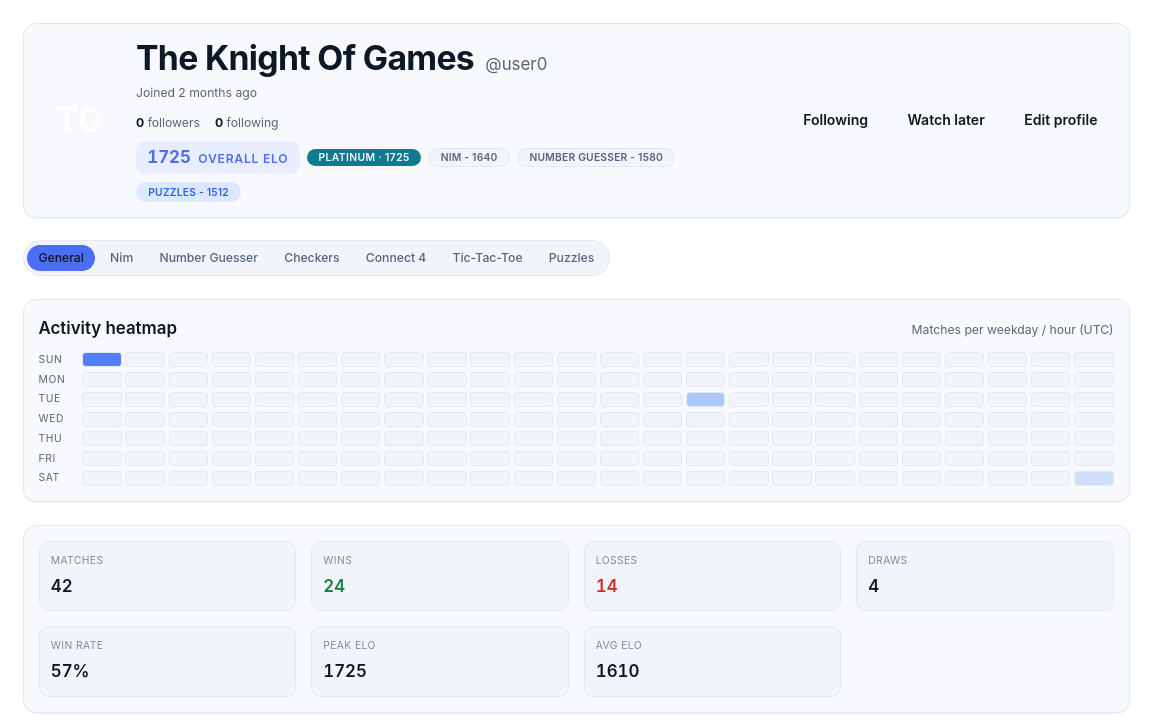
Test: Profile page — tabs › shows an owner-only Following tab with the follow feed
The image size is (1152, 720).
expect the element with test id "profile-header" is shown: met, box x1=22 y1=22 x2=1130 y2=218
Click the tab "Following" at (836, 120), box x1=787 y1=101 x2=884 y2=139
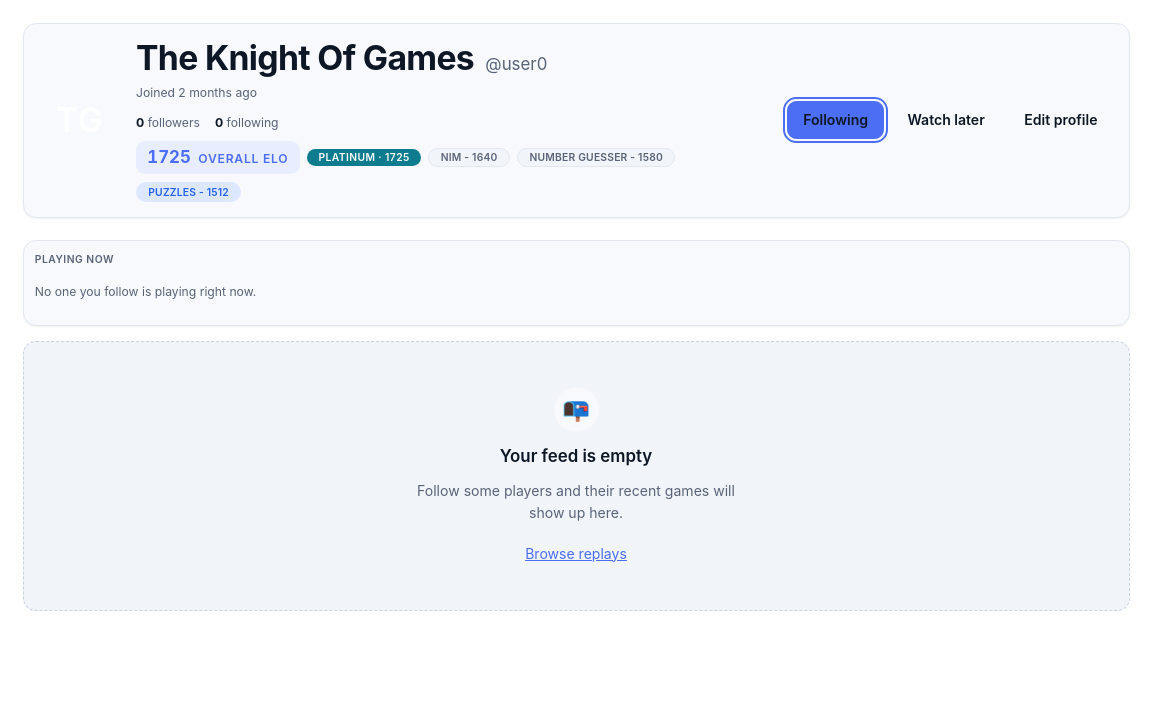
expect the element with test id "following-feed" is shown: met, box x1=22 y1=240 x2=1130 y2=611
